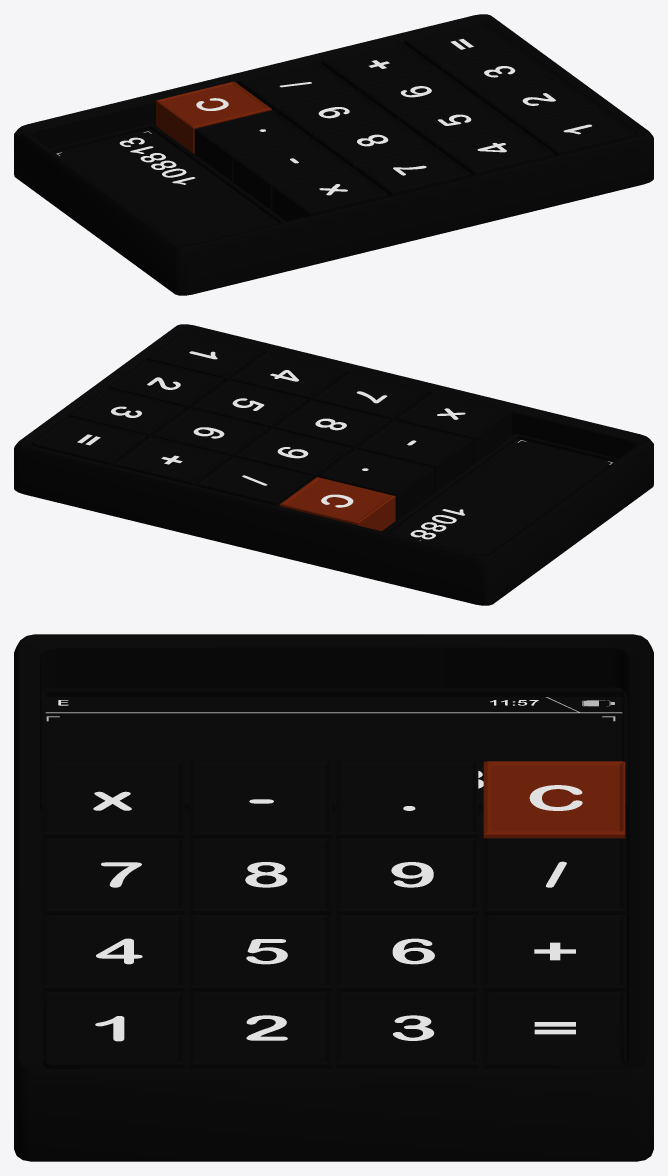
The model's file is Calculator.obj.
The picture shows the model from 3 angles, top to bottom: view 1: azimuth 30°, elevation 25°; view 2: azimuth 150°, elevation 25°; view 3: azimuth 270°, elevation 25°; orthographic projection. The views are drawn at different scales.
Parts seen in each view (by area): view 1: Plane.001_B2, Plane_B2, Plane.002_Black_Screen, Plane.001_Orange, Plane.003_B2.001, Text.017_Text_White; view 2: Plane.001_B2, Plane_B2, Plane.002_Black_Screen, Plane.001_Orange, Plane.003_B2.001, Text.017_Text_White; view 3: Plane.001_B2, Plane_B2, Plane.002_Black_Screen, Plane.001_Orange, Plane.003_B2.001, Plane.007_Screen_White.
Part boxes in pixels (box(x1,y1,x2,y2)): Plane.001_B2: box(194, 21, 635, 221); Plane_B2: box(14, 14, 653, 295); Plane.002_Black_Screen: box(54, 129, 278, 244); Plane.001_Orange: box(156, 81, 271, 153); Plane.003_B2.001: box(49, 124, 285, 222); Text.017_Text_White: box(119, 137, 194, 184); Plane.001_B2: box(32, 331, 511, 520); Plane_B2: box(14, 324, 653, 605); Plane.002_Black_Screen: box(389, 439, 613, 554); Plane.001_Orange: box(279, 477, 395, 531); Plane.003_B2.001: box(382, 434, 618, 532); Text.017_Text_White: box(410, 509, 464, 540); Plane.001_B2: box(42, 761, 625, 1068); Plane_B2: box(14, 634, 653, 1161); Plane.002_Black_Screen: box(40, 697, 627, 811); Plane.001_Orange: box(483, 761, 625, 838); Plane.003_B2.001: box(40, 687, 627, 808); Plane.007_Screen_White: box(45, 697, 622, 713).
Bounding box in the file's own units: 7.04 × 0.6913 × 4.3.
